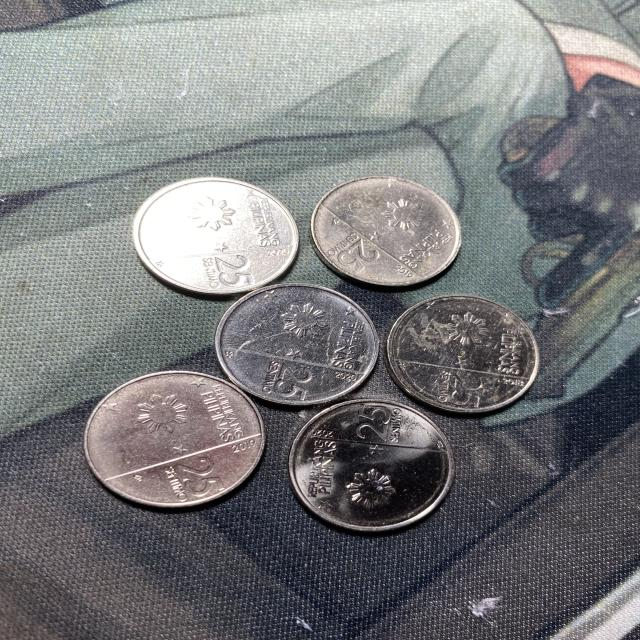25Cent_New_Front: (172, 455, 224, 494), (271, 364, 319, 402), (336, 238, 381, 274), (356, 404, 395, 441), (212, 253, 255, 286), (450, 372, 491, 406)
